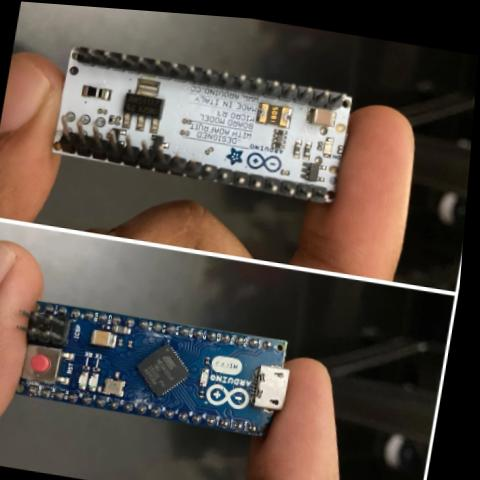Arduino-Micro: (0, 288, 311, 451)
